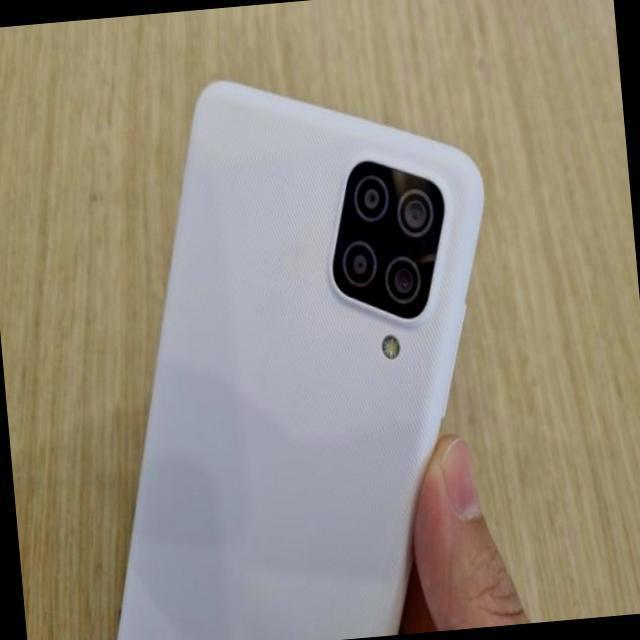phone: (107, 52, 487, 640)
